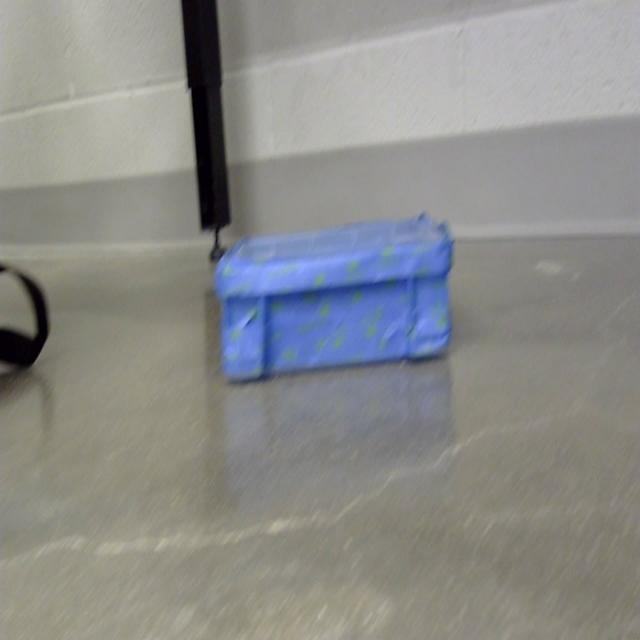bucket: (214, 215, 454, 386)
